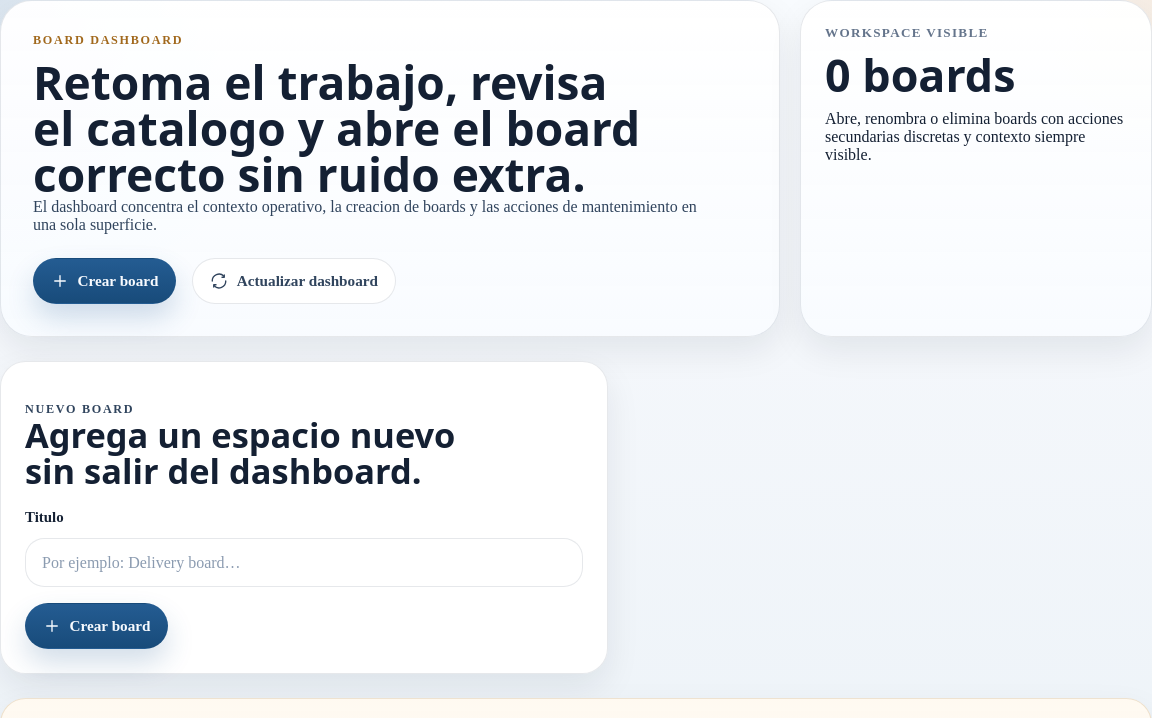
Scenario: HomeRoute › creates a board from the dashboard and refreshes the list
Type "Delivery board" into the field named "titulo del nuevo board" at point(304, 563), box [25,538,583,587]
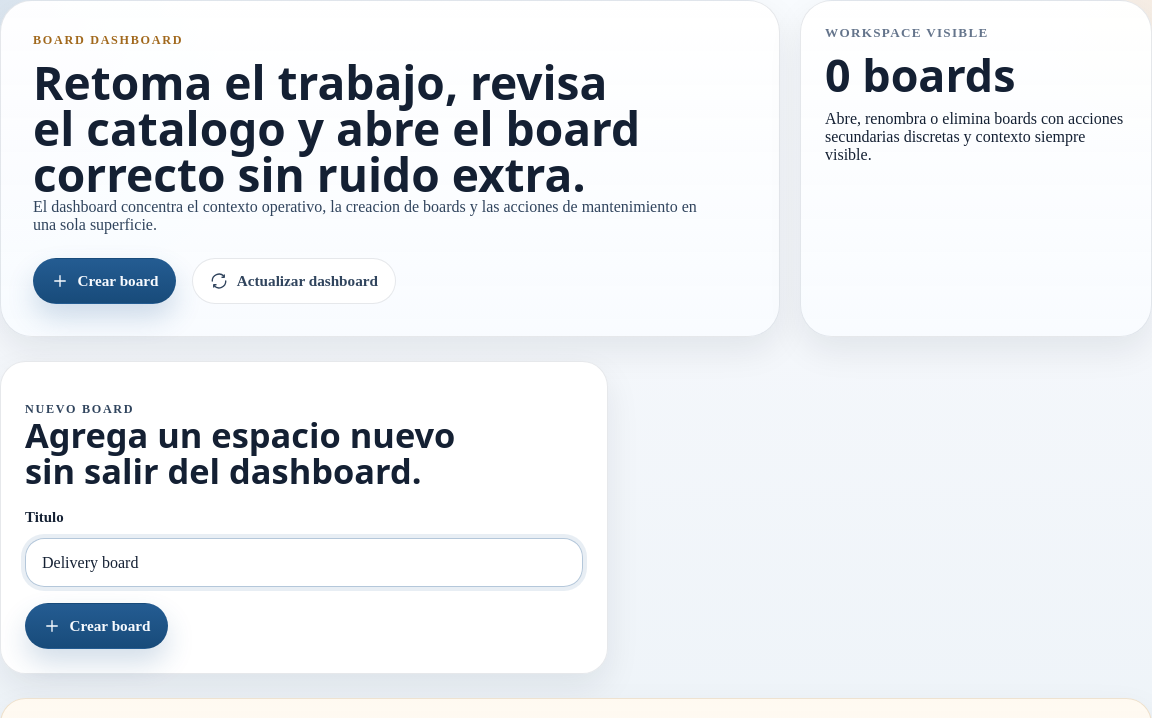
Click the button "Crear board" below "Titulo" at point(97, 626), box [25,603,168,649]
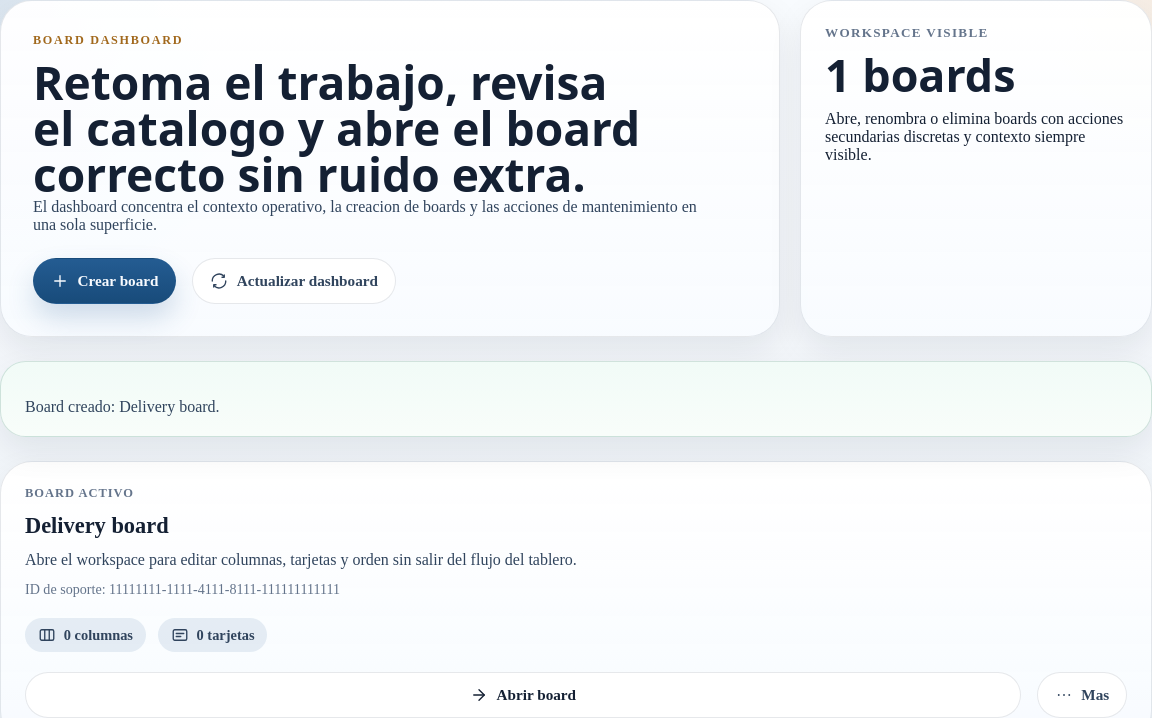
Expected: the heading "Delivery board" is shown, [25,513,169,538]
